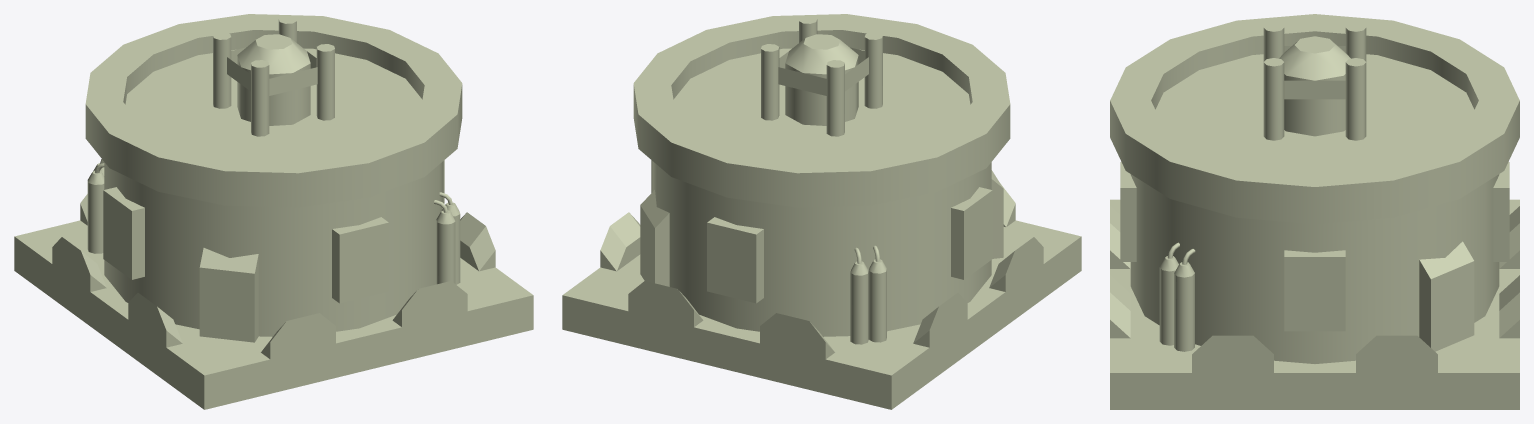
Rendered from cyclotron.obj.
3 views of the same model, side by side, from view 1: azimuth 30°, elevation 25°; view 2: azimuth 150°, elevation 25°; view 3: azimuth 270°, elevation 25° (orthographic). The views are drawn at different scales.
Visible parts, largest first — view 1: Body, B1, B4; view 2: Body, B2, B4; view 3: Body, B3, B2, B1.
Boxes of the visible parts, x1,y1,x2,y2 form: Body: (14,14,533,409); B1: (332,217,388,303); B4: (103,187,144,279); Body: (562,14,1081,409); B2: (707,217,763,303); B4: (951,187,992,279); Body: (1110,14,1519,409); B3: (1284,250,1345,331); B2: (1493,162,1509,261); B1: (1120,162,1136,261).
Size of the model in its own units: 5 by 3.75 by 5.
